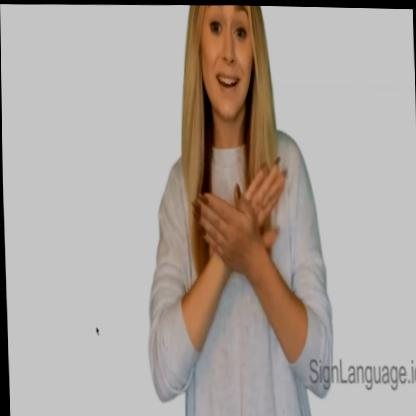NiceToMeetYou: (191, 153, 296, 309)
